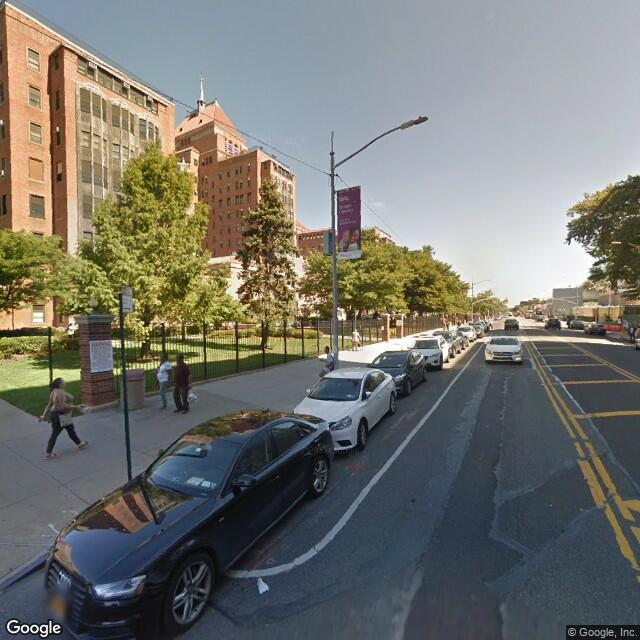litter: (256, 577, 271, 596)
